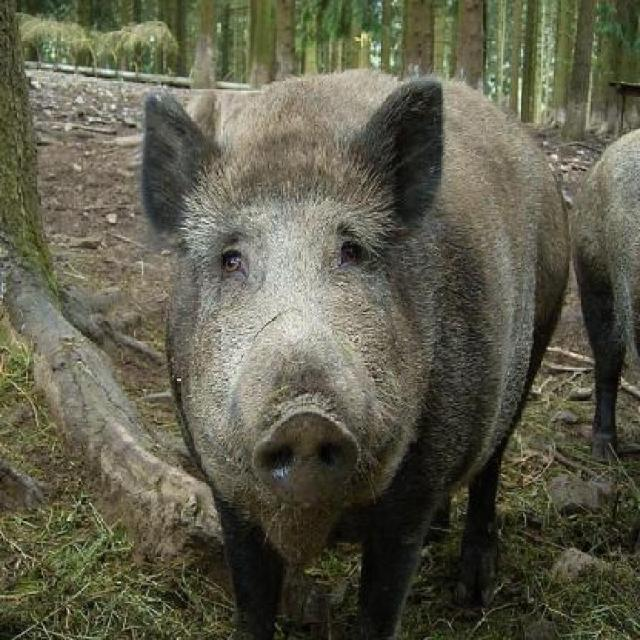wildboar: (138, 66, 576, 640), (575, 122, 640, 488)
